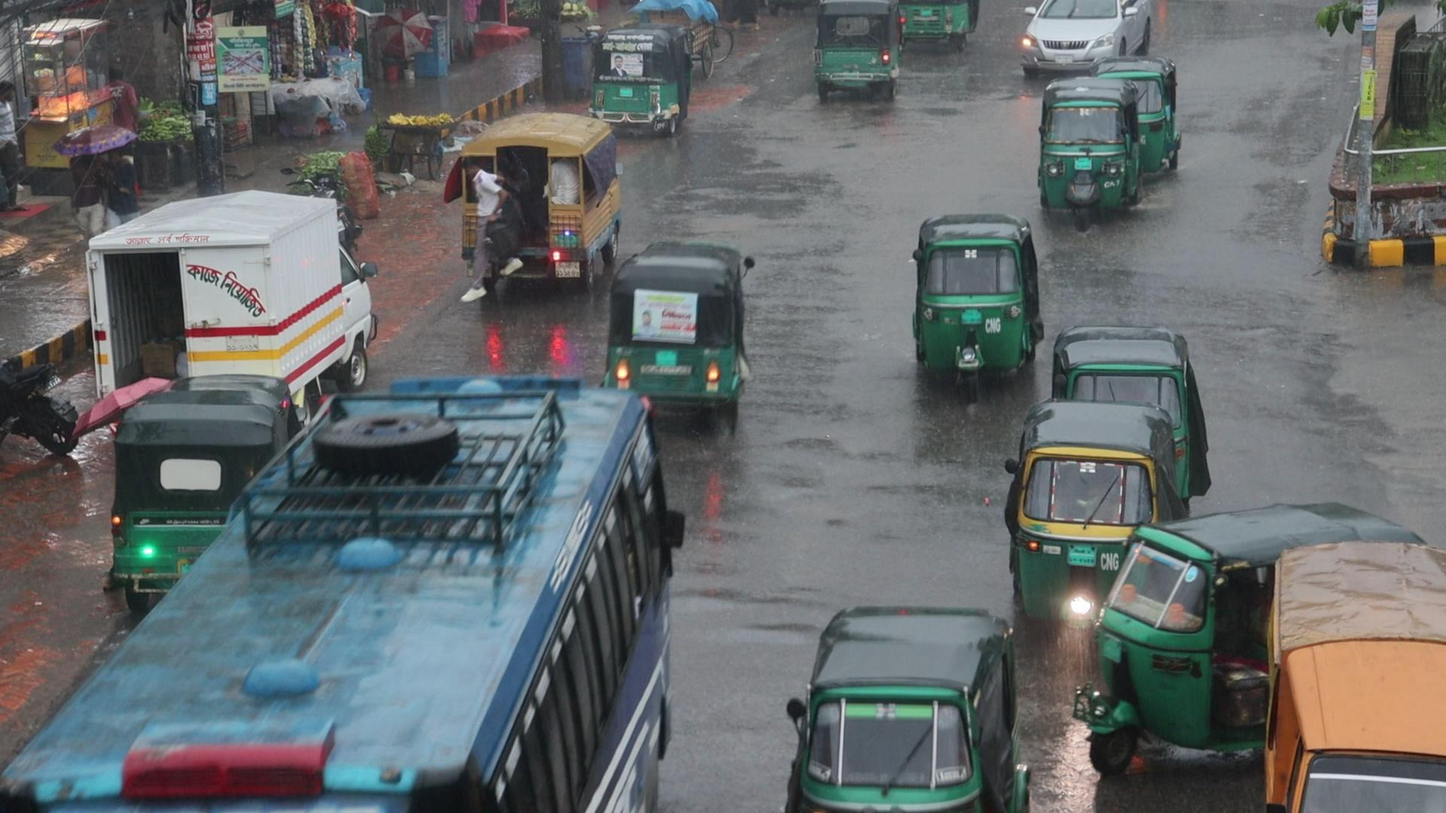Bus: (11, 367, 672, 813)
Car: (1020, 0, 1158, 81)
Truck: (452, 112, 619, 294)
